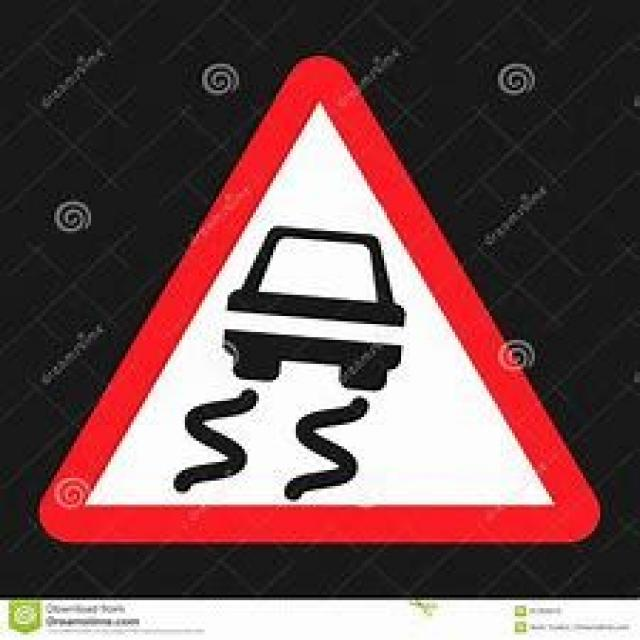SLIPPERY_ROAD: (31, 53, 598, 542)
